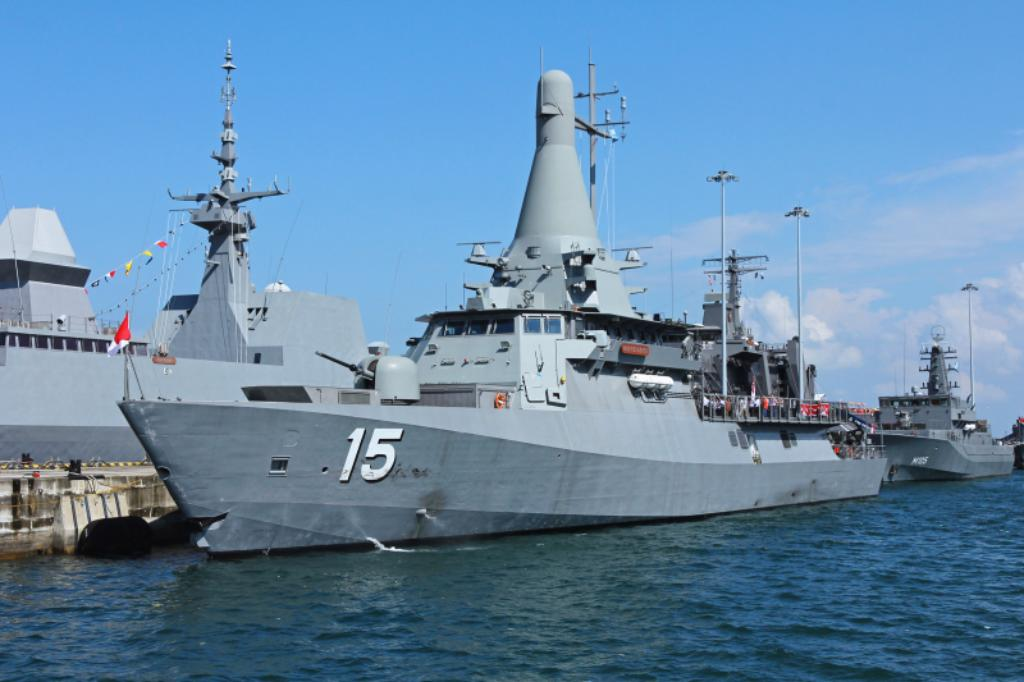Warship: (123, 62, 891, 562), (874, 324, 1022, 482)
